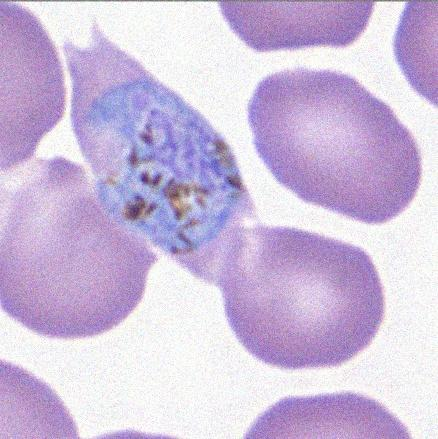Infected: (178, 149, 376, 418)
Uninfected: (280, 100, 438, 287), (17, 216, 189, 372), (54, 69, 217, 213)
